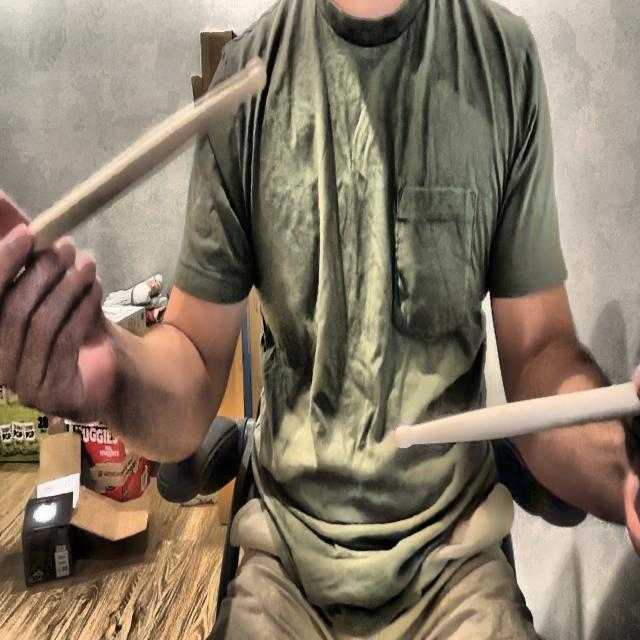Drumstick-Heads: (244, 48, 270, 98), (396, 414, 414, 454)
